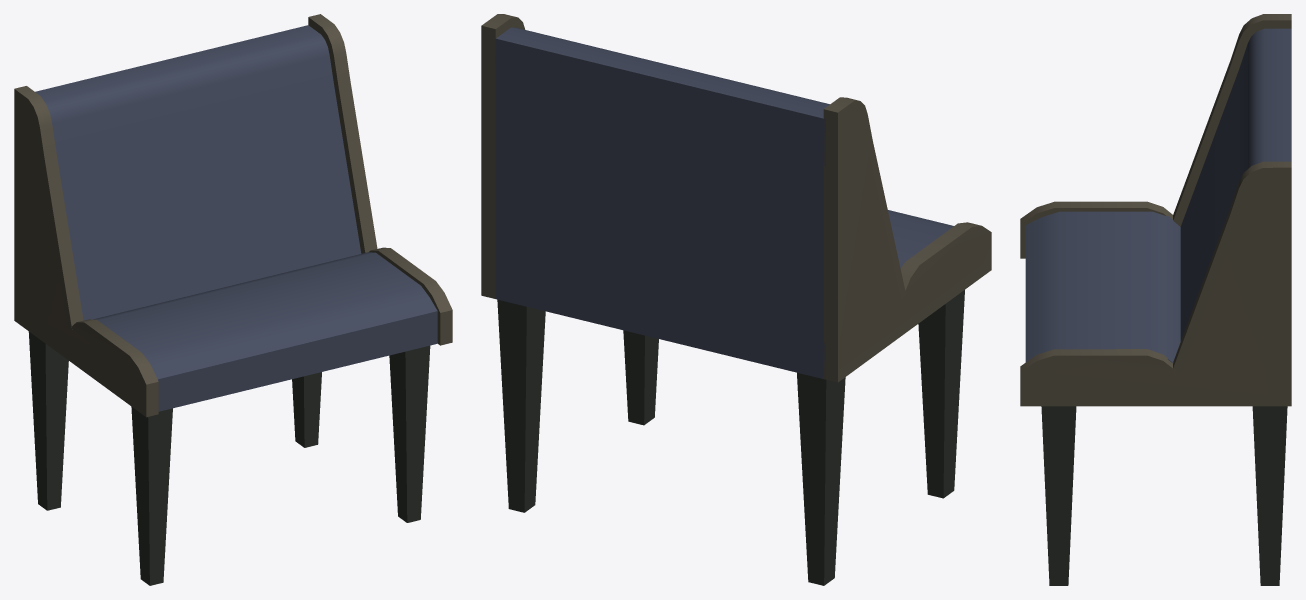
Rendered from SM_seat_01.fbx.
The picture shows the model from 3 angles, left to right: view 1: azimuth 30°, elevation 25°; view 2: azimuth 150°, elevation 25°; view 3: azimuth 270°, elevation 25°; orthographic projection. The views are drawn at different scales.
Parts seen in each view (by area): view 1: seat_01; view 2: seat_01; view 3: seat_01.
Boxes of the visible parts, x1,y1,x2,y2 form: seat_01: (14,14,452,585); seat_01: (481,14,991,585); seat_01: (1020,14,1291,585).
Size of the model in its own units: 107 by 139 by 80.05.
